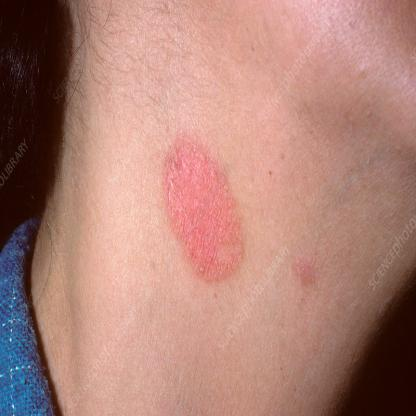Ringworm: (158, 129, 251, 289)
